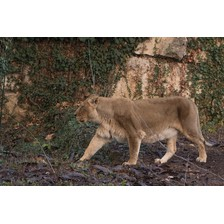lion: (73, 93, 219, 167)
